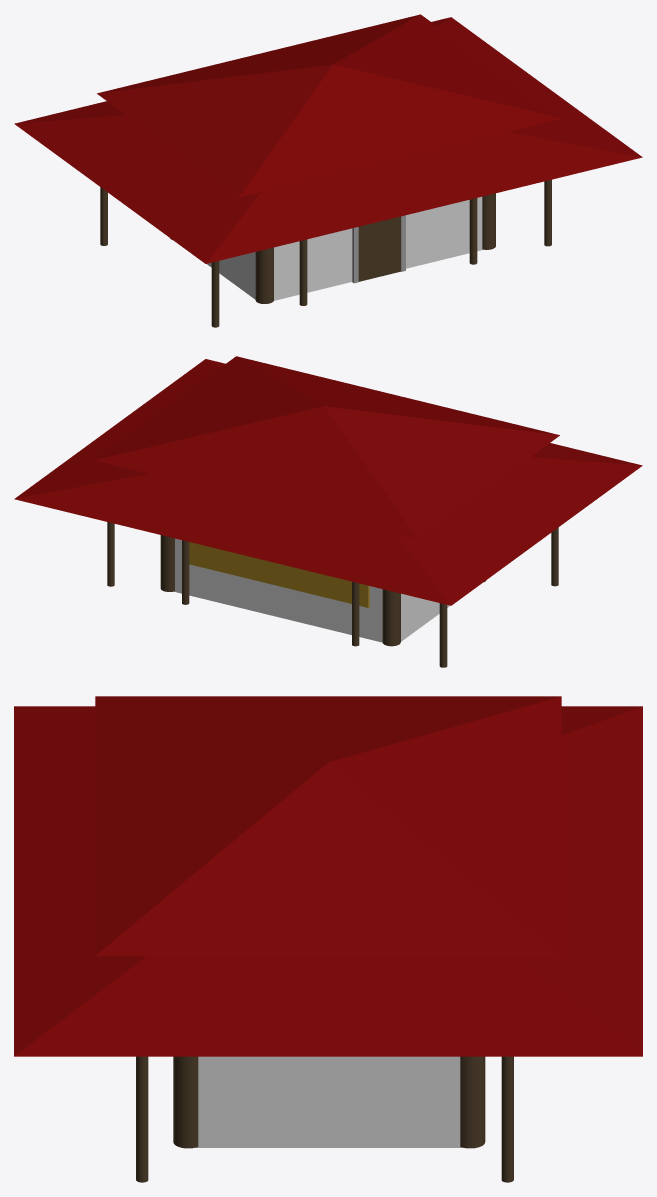
File: House A.fbx
3 views of the same model, one above another, from view 1: azimuth 30°, elevation 25°; view 2: azimuth 150°, elevation 25°; view 3: azimuth 270°, elevation 25° (orthographic). The views are drawn at different scales.
Parts seen in each view (by area): view 1: pasted__pCone2, pasted__pCone1, pasted__pasted__pCube1, pCube3, pasted__pCylinder1 (×4), pCylinder2, pCylinder1, pasted__pCylinder5; view 2: pasted__pCone2, pasted__pCone1, pasted__pasted__pCube1, pCube4, pCylinder4, pCylinder3, pasted__pCylinder5, pasted__pCylinder2, pasted__pCylinder3, pasted__pCylinder4, pasted__pCylinder1; view 3: pasted__pCone2, pasted__pCone1, pasted__pasted__pCube1, pCylinder1, pCylinder3, pasted__pCylinder1, pasted__pCylinder2.
Boxes of the visible parts, box(x1,y1,x2,y2) form: pasted__pCone2: box(97, 14, 562, 197); pasted__pCone1: box(14, 17, 642, 263); pasted__pasted__pCube1: box(207, 196, 483, 300); pCube3: box(358, 216, 400, 281); pasted__pCylinder1 (×4): box(211, 179, 551, 327); pCylinder2: box(255, 247, 273, 303); pCylinder1: box(482, 193, 495, 249); pasted__pCylinder5: box(100, 187, 107, 245); pasted__pCone2: box(94, 356, 559, 539); pasted__pCone1: box(14, 359, 642, 605); pasted__pasted__pCube1: box(174, 538, 449, 642); pCube4: box(189, 542, 369, 607); pCylinder4: box(382, 589, 400, 646); pCylinder3: box(160, 535, 174, 591); pasted__pCylinder5: box(439, 603, 447, 667); pasted__pCylinder2: box(107, 522, 114, 586); pasted__pCylinder3: box(182, 540, 189, 604); pasted__pCylinder4: box(352, 581, 359, 646); pasted__pCylinder1: box(551, 527, 558, 586); pasted__pCone2: box(95, 696, 561, 955); pasted__pCone1: box(14, 706, 642, 1056); pasted__pasted__pCube1: box(181, 1056, 463, 1147); pCylinder1: box(173, 1056, 198, 1148); pCylinder3: box(460, 1056, 485, 1148); pasted__pCylinder1: box(136, 1056, 148, 1182); pasted__pCylinder2: box(501, 1056, 513, 1182).
Bounding box in the file's own units: 22.55 × 8.8 × 17.13.
